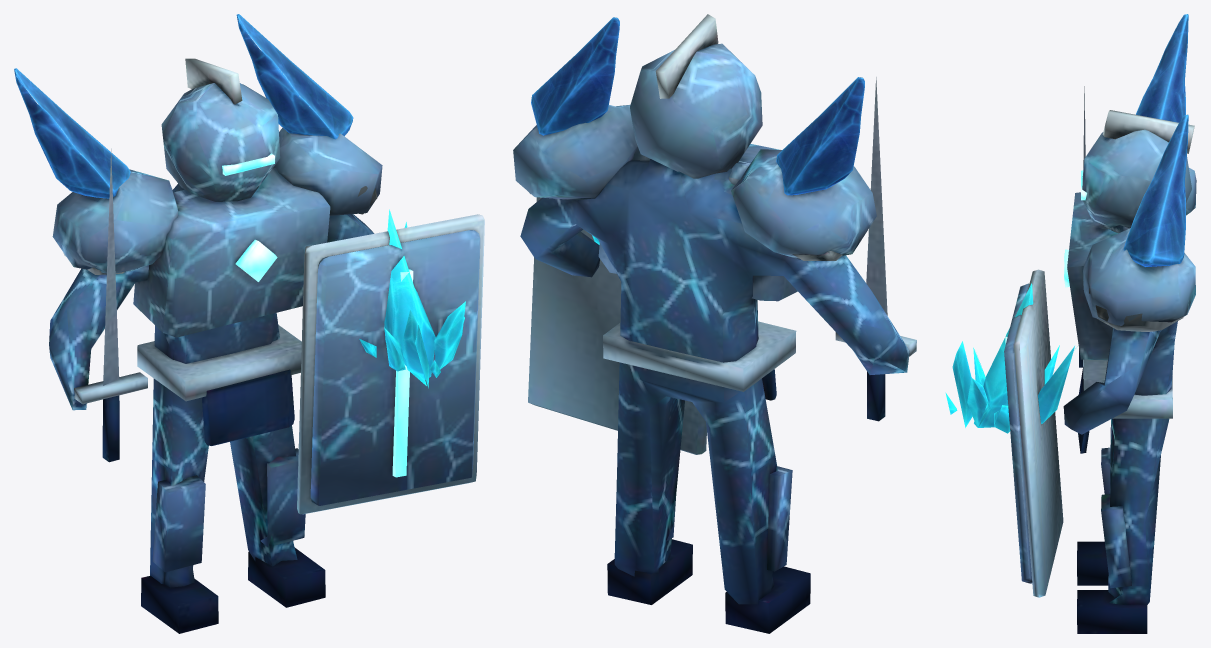
The model's file is u_vanguard_f_g.glb.
3 renders of one model, left to right at view 1: azimuth 30°, elevation 25°; view 2: azimuth 150°, elevation 25°; view 3: azimuth 270°, elevation 25°, orthographic. The views are drawn at different scales.
Parts seen in each view (by area): view 1: u_vanguard_f; view 2: u_vanguard_f; view 3: u_vanguard_f.
Boxes of the visible parts, <box> form: u_vanguard_f: <box>14,14,484,633</box>; u_vanguard_f: <box>513,14,916,633</box>; u_vanguard_f: <box>945,14,1196,633</box>.
Size of the model in its own units: 1.79 by 2.44 by 1.1.
Materials: 3 (3 with a texture image).
